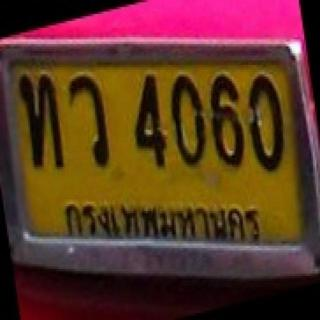A23: (18, 70, 67, 170)
A37: (66, 71, 117, 172)
N00: (245, 74, 288, 173), (168, 70, 209, 169)
N04: (130, 71, 172, 170)
N06: (208, 70, 249, 169)
P04: (57, 195, 270, 250)
